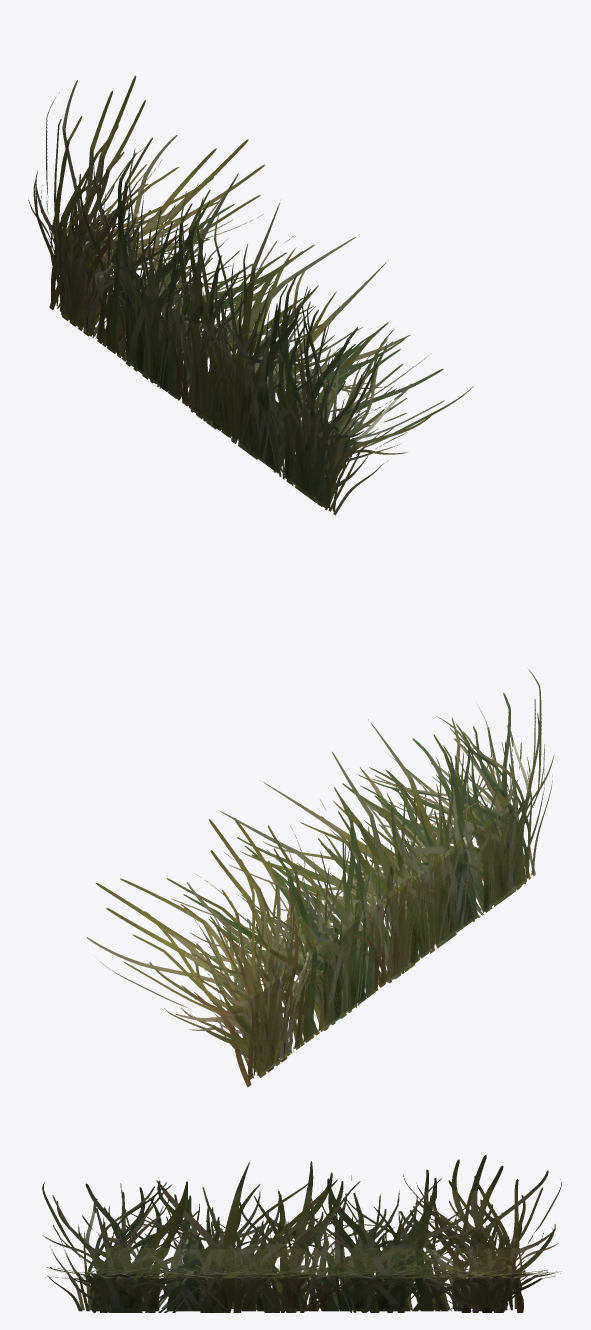
The model's file is grass_cards.glb.
3 renders of one model, top to bottom at view 1: azimuth 30°, elevation 25°; view 2: azimuth 150°, elevation 25°; view 3: azimuth 270°, elevation 25°, orthographic. The views are drawn at different scales.
Visible parts, largest first — view 1: Plate1.003_Plate1_0, Plate3.003_Plate3_0, Plate2.003_Plate2_0, Plate3.002_Plate3_0, Plate1.002_Plate1_0, Plate2.002_Plate2_0; view 2: Plate1.003_Plate1_0, Plate3.003_Plate3_0, Plate2.003_Plate2_0, Plate3.002_Plate3_0, Plate1.002_Plate1_0, Plate2.002_Plate2_0; view 3: Plate1.003_Plate1_0, Plate3.003_Plate3_0, Plate1.002_Plate1_0, Plate2.003_Plate2_0, Plate3.002_Plate3_0, Plate2.002_Plate2_0.
Boxes of the visible parts, box(x1,y1,x2,y2) form: Plate1.003_Plate1_0: box(35, 76, 364, 504); Plate3.003_Plate3_0: box(33, 100, 361, 511); Plate2.003_Plate2_0: box(28, 147, 386, 505); Plate3.002_Plate3_0: box(61, 164, 434, 515); Plate1.002_Plate1_0: box(57, 135, 431, 499); Plate2.002_Plate2_0: box(49, 192, 473, 510); Plate1.003_Plate1_0: box(187, 702, 553, 1075); Plate3.003_Plate3_0: box(221, 712, 552, 1075); Plate2.003_Plate2_0: box(221, 670, 544, 1080); Plate3.002_Plate3_0: box(120, 746, 535, 1076); Plate1.002_Plate1_0: box(86, 753, 513, 1078); Plate2.002_Plate2_0: box(170, 716, 525, 1087); Plate1.003_Plate1_0: box(42, 1155, 561, 1309); Plate3.003_Plate3_0: box(50, 1159, 553, 1310); Plate1.002_Plate1_0: box(45, 1268, 561, 1311); Plate2.003_Plate2_0: box(42, 1178, 558, 1308); Plate3.002_Plate3_0: box(47, 1265, 547, 1311); Plate2.002_Plate2_0: box(47, 1267, 560, 1312).
Bounding box in the file's own units: 0.8512 × 1.02 × 2.62.
3 materials, 3 textured.
